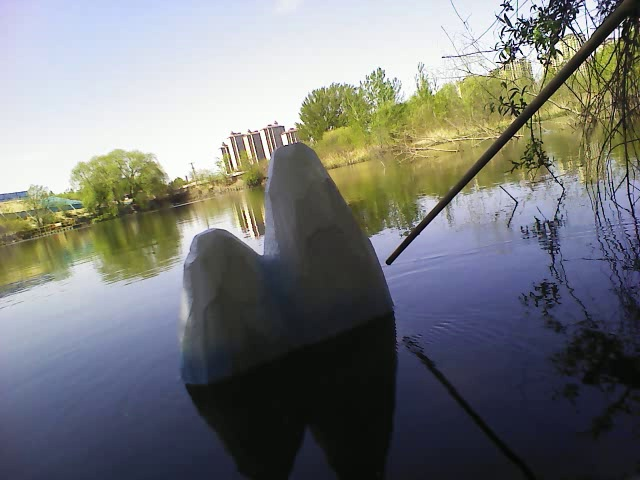iceberg: (175, 139, 400, 387)
